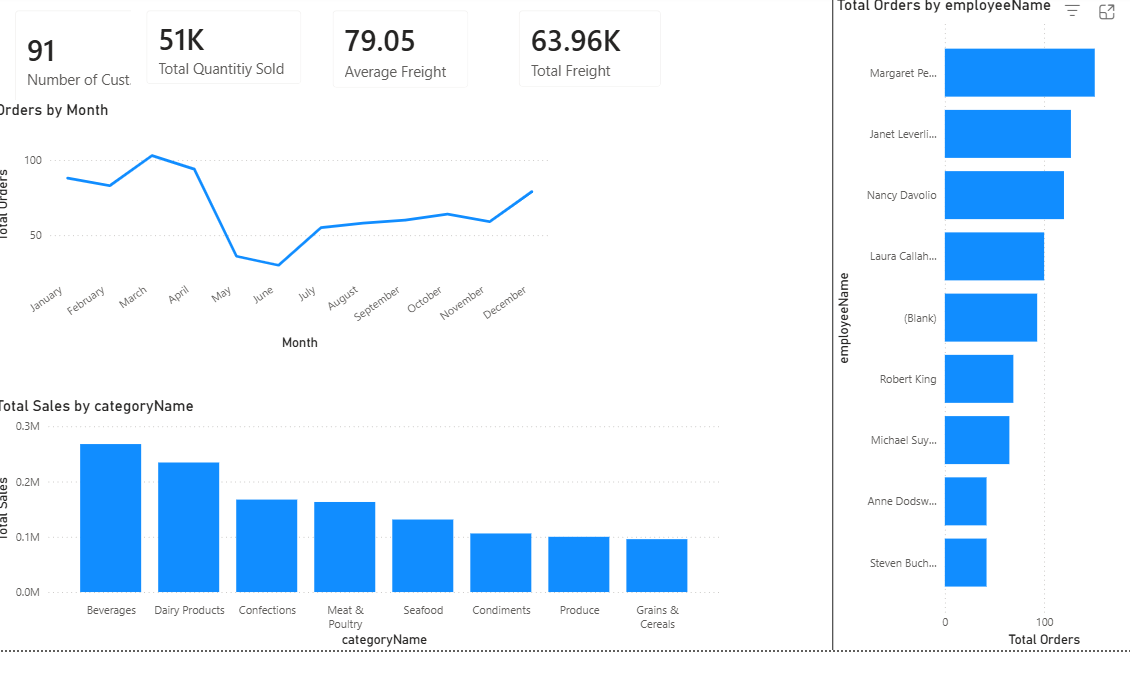

Layout of this report page (visuals, bound fields, positions):
{"tool":"powerbi","page":{"name":"Sales Overview","canvas":[1280,720],"ordinal":0},"visuals":[{"type":"cardVisual","fields":{"Data":["Customers.Number of Customer"]},"box":[9.6,0,188,140],"z":0},{"type":"cardVisual","fields":{"Data":["Order_details.Total Quantitiy Sold"]},"box":[153.7,0,204.5,115.3],"z":1000},{"type":"cardVisual","fields":{"Data":["Orders.Total Freight"]},"box":[562.6,0,190.7,118],"z":2000},{"type":"cardVisual","fields":{"Data":["Orders.Average Freight"]},"box":[358.1,0,183.9,119.4],"z":3000},{"type":"lineChart","title":"Orders by Month","fields":{"Category":["Orders.orderDate.Variation.Date Hierarchy.Month"],"Y":["Orders.Total Orders"]},"box":[0,115.3,617.5,279.9],"z":4000},{"type":"clusteredColumnChart","fields":{"Y":["Order_details.Total Sales"],"Category":["Categories.categoryName"]},"box":[0,440.5,805.5,279.9],"z":5000},{"type":"clusteredBarChart","fields":{"Category":["Employees.employeeName"],"Y":["Orders.Total Orders"]},"box":[923.5,0,356.8,720.4],"z":6000}]}

Visuals, with their boxes on the page's 1280x720 design canvas (x1, y1, x2, y2). These are canvas units, not pixel positions in the 1130x687 screenshot, which may show the page scaled, cropped or inside an application window:
cardVisual - Customers.Number of Customer: 10,0,198,140
cardVisual - Order_details.Total Quantitiy Sold: 154,0,358,115
cardVisual - Orders.Total Freight: 563,0,753,118
cardVisual - Orders.Average Freight: 358,0,542,119
"Orders by Month" lineChart: 0,115,618,395
clusteredColumnChart - Order_details.Total Sales x Categories.categoryName: 0,440,806,720
clusteredBarChart - Employees.employeeName x Orders.Total Orders: 924,0,1280,720
